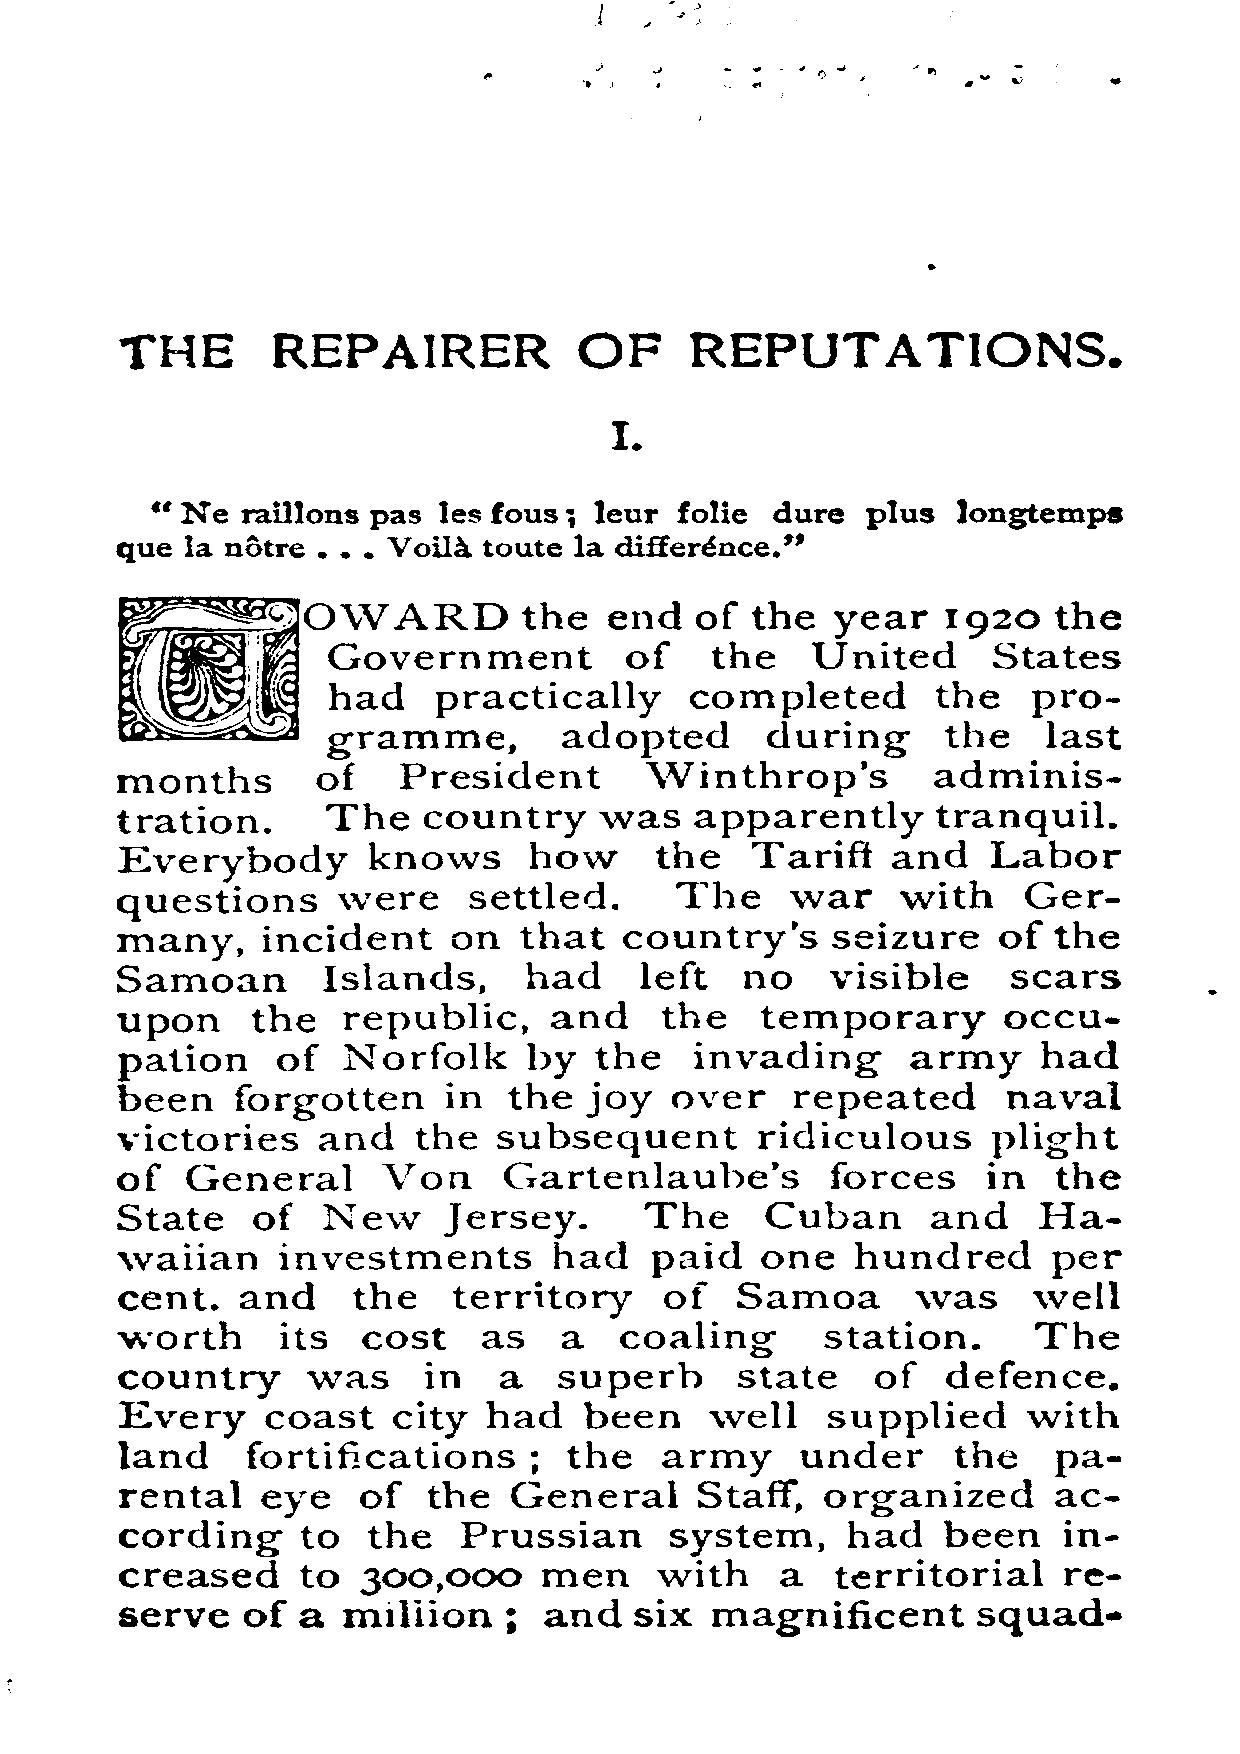chapter: (114, 326, 1121, 454)
content: (113, 493, 1125, 1639)
